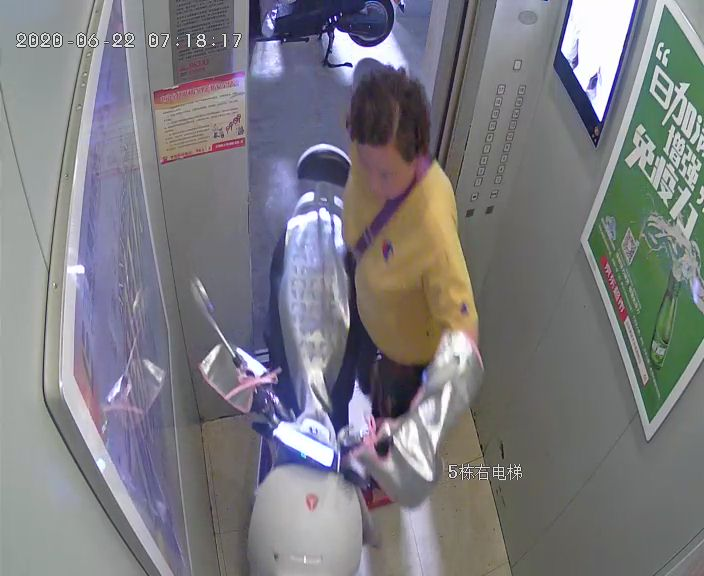Electric-bicycle: (193, 144, 457, 569)
